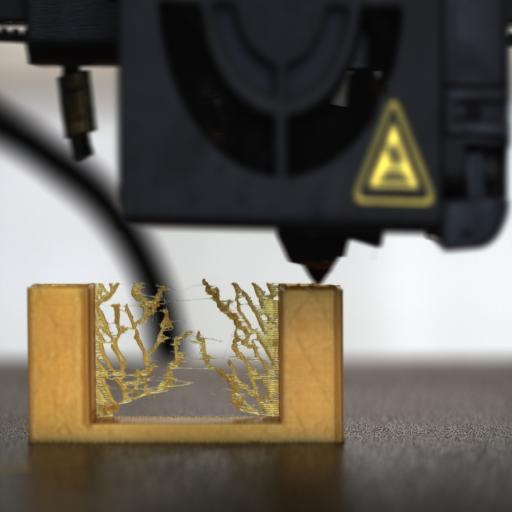stringing: (93, 281, 279, 415)
